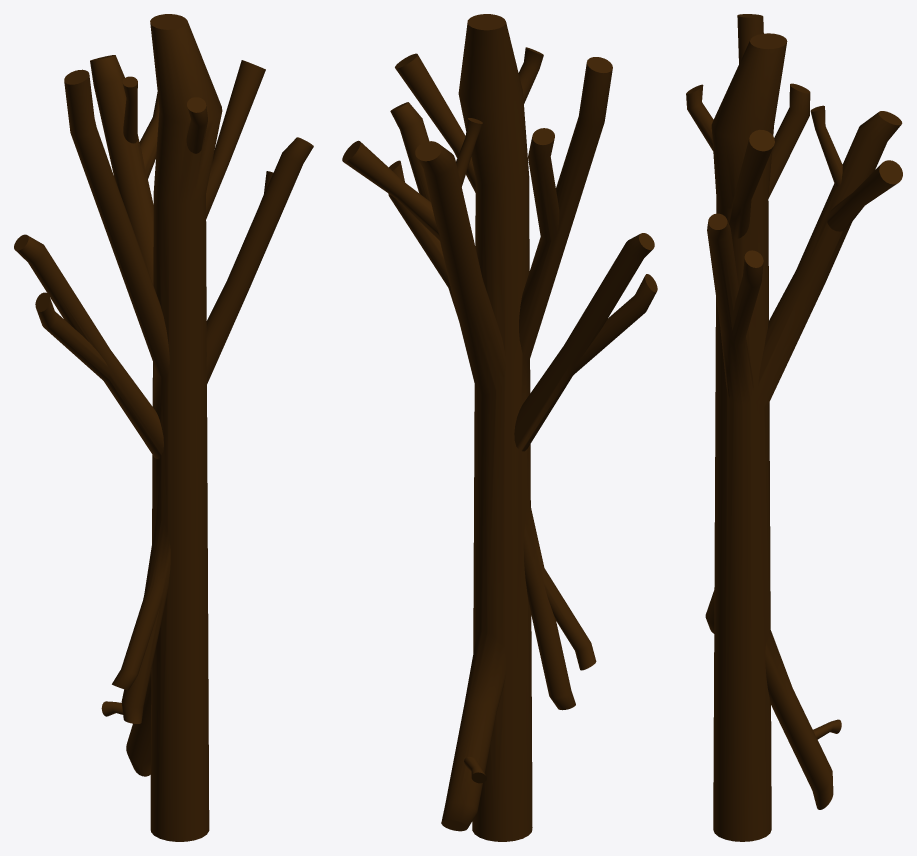
Rendered from 48_stick3.fbx.
3 renders of one model, left to right at view 1: azimuth 30°, elevation 25°; view 2: azimuth 150°, elevation 25°; view 3: azimuth 270°, elevation 25°, orthographic. The views are drawn at different scales.
Parts seen in each view (by area): view 1: pCylinder168; view 2: pCylinder168; view 3: pCylinder168.
Boxes of the visible parts, x1,y1,x2,y2 form: pCylinder168: [14, 14, 313, 841]; pCylinder168: [342, 14, 657, 841]; pCylinder168: [686, 14, 902, 841].
Size of the model in its own units: 0.6456 by 1.78 by 0.4435.
